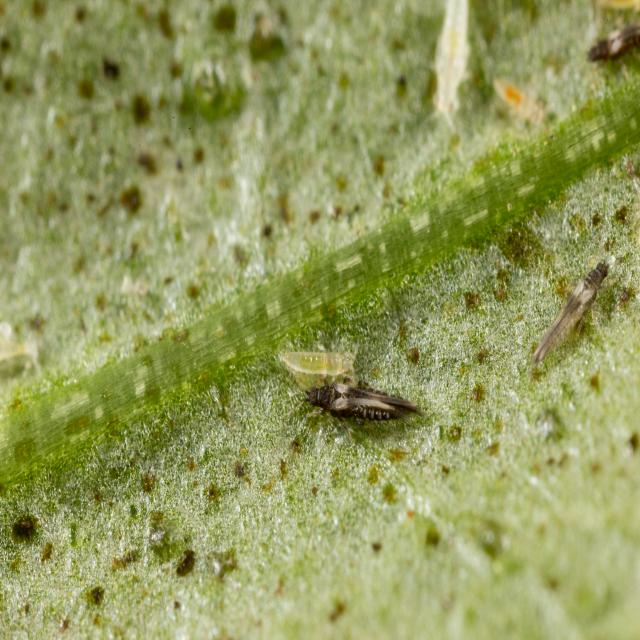Thrip-Adult-: (518, 250, 622, 383), (301, 376, 428, 435)
Thrip-Larva-: (268, 337, 357, 383)
